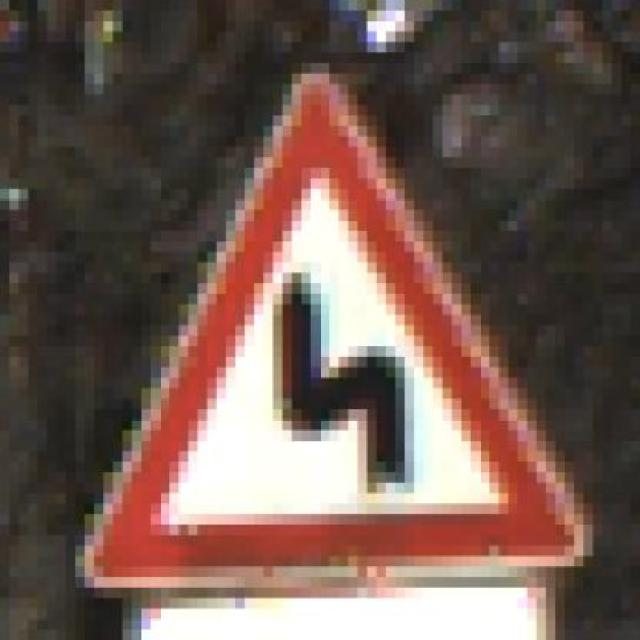Left Zig Zag Traffic: (56, 52, 593, 598)
